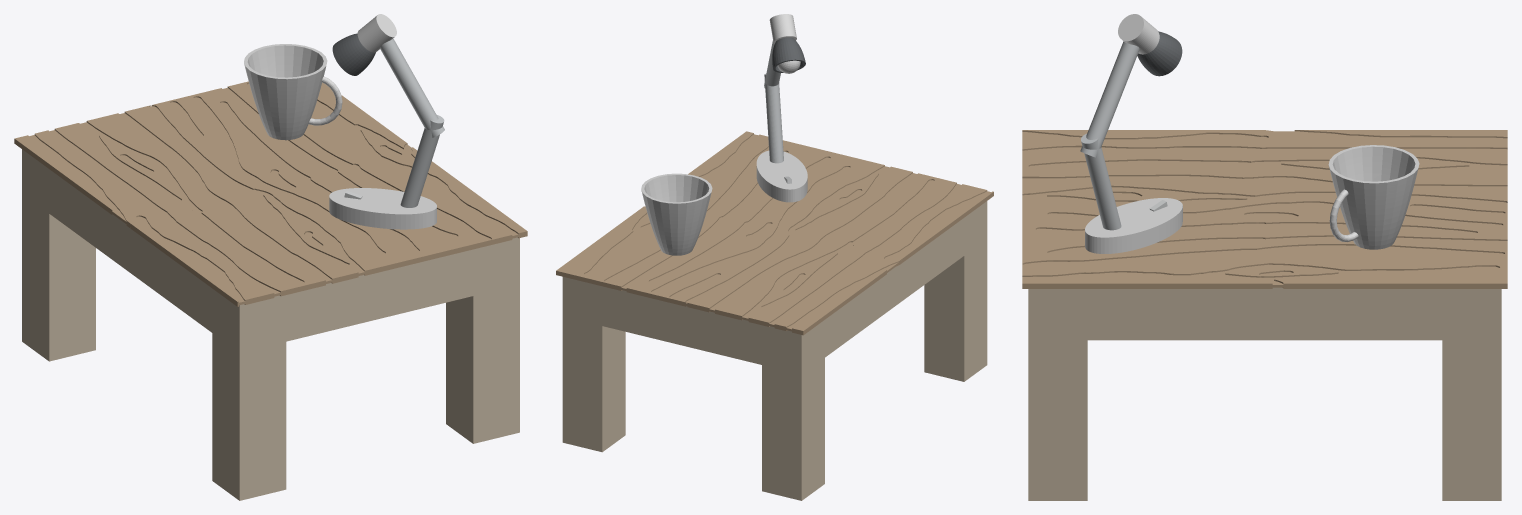
File: Table.glb
3 renders of one model, left to right at view 1: azimuth 30°, elevation 25°; view 2: azimuth 150°, elevation 25°; view 3: azimuth 270°, elevation 25°, orthographic. The views are drawn at different scales.
Visible parts, largest first — view 1: Mesh_Mesh_head_geo.001_lambert2SG.001; view 2: Mesh_Mesh_head_geo.001_lambert2SG.001; view 3: Mesh_Mesh_head_geo.001_lambert2SG.001.
Part boxes in pixels (left/top/right/bottom): Mesh_Mesh_head_geo.001_lambert2SG.001: left=14, top=14, right=527, bottom=500; Mesh_Mesh_head_geo.001_lambert2SG.001: left=556, top=14, right=993, bottom=500; Mesh_Mesh_head_geo.001_lambert2SG.001: left=1022, top=14, right=1507, bottom=500.
Bounding box in the file's own units: 60 × 79.57 × 80.
